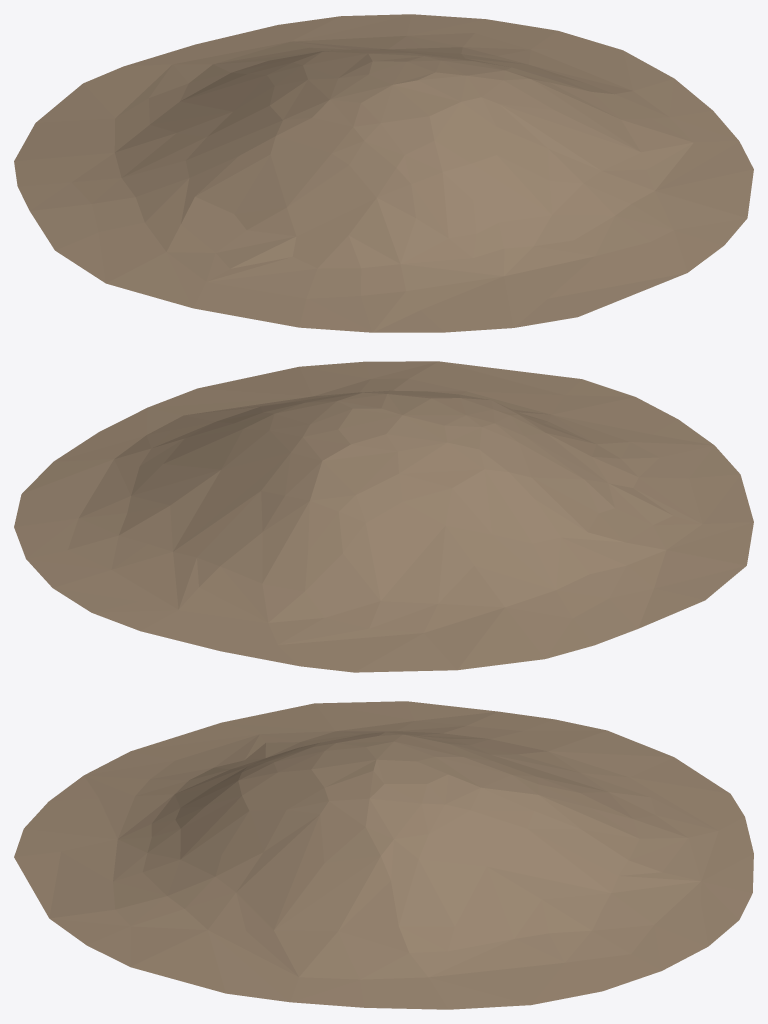
File: SM_Env_Ground_Hill_02.fbx
The picture shows the model from 3 angles, top to bottom: view 1: azimuth 30°, elevation 25°; view 2: azimuth 150°, elevation 25°; view 3: azimuth 270°, elevation 25°; orthographic projection.
Visible parts, largest first — view 1: SM_Env_Ground_Hill_02; view 2: SM_Env_Ground_Hill_02; view 3: SM_Env_Ground_Hill_02.
Part boxes in pixels (x1,y1,x2,y2): SM_Env_Ground_Hill_02: (14,14,753,332); SM_Env_Ground_Hill_02: (14,361,753,672); SM_Env_Ground_Hill_02: (14,701,753,1009).
Size of the model in its own units: 1669 by 244 by 1692.
